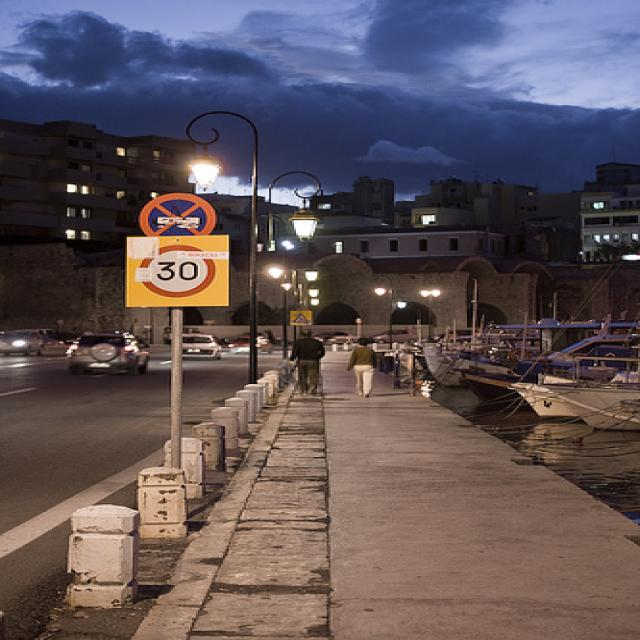Vehicle: (67, 334, 150, 375), (181, 328, 231, 358), (0, 331, 45, 356), (313, 330, 359, 346), (228, 336, 250, 353)
